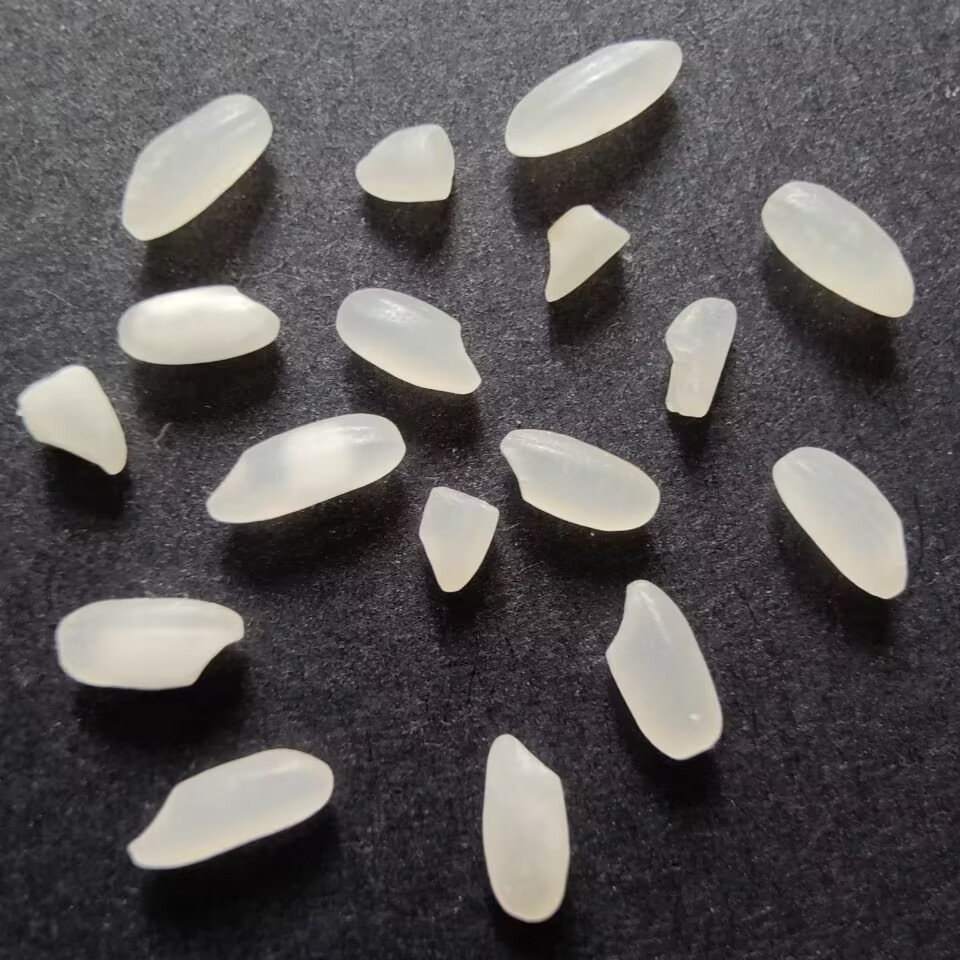broken: (11, 361, 127, 479), (654, 294, 741, 419), (413, 483, 501, 598), (539, 199, 632, 305), (353, 123, 459, 207)
rice: (122, 743, 336, 875), (202, 407, 409, 529), (116, 90, 275, 242), (768, 445, 916, 606), (502, 34, 684, 159), (757, 178, 917, 318), (603, 577, 724, 762), (53, 594, 249, 696), (479, 727, 573, 928), (496, 425, 664, 535), (330, 285, 487, 397), (114, 280, 285, 368)
